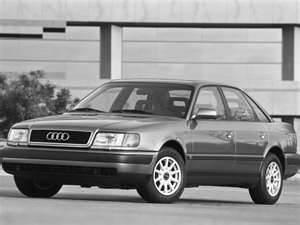Sedan: (0, 77, 299, 204)
